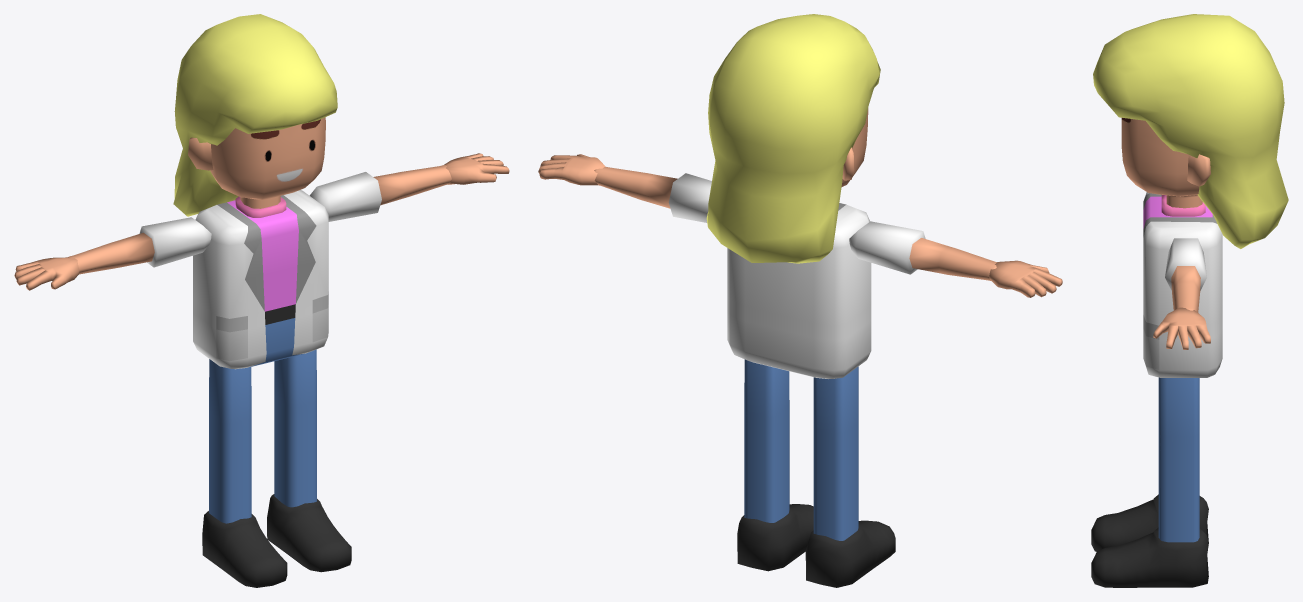
The model's file is NPC_White02_BlondeHair02.gltf.
3 views of the same model, side by side, from view 1: azimuth 30°, elevation 25°; view 2: azimuth 150°, elevation 25°; view 3: azimuth 270°, elevation 25° (orthographic). The views are drawn at different scales.
Visible parts, largest first — view 1: NPC_Corpo_White2_BlondeHair.002; view 2: NPC_Corpo_White2_BlondeHair.002; view 3: NPC_Corpo_White2_BlondeHair.002.
Part boxes in pixels (<box>): NPC_Corpo_White2_BlondeHair.002: <box>14,14,509,587</box>; NPC_Corpo_White2_BlondeHair.002: <box>538,14,1062,587</box>; NPC_Corpo_White2_BlondeHair.002: <box>1091,14,1288,587</box>.
Size of the model in its own units: 2.31 by 2.33 by 0.7777.
Materials: 1 (1 with a texture image).
